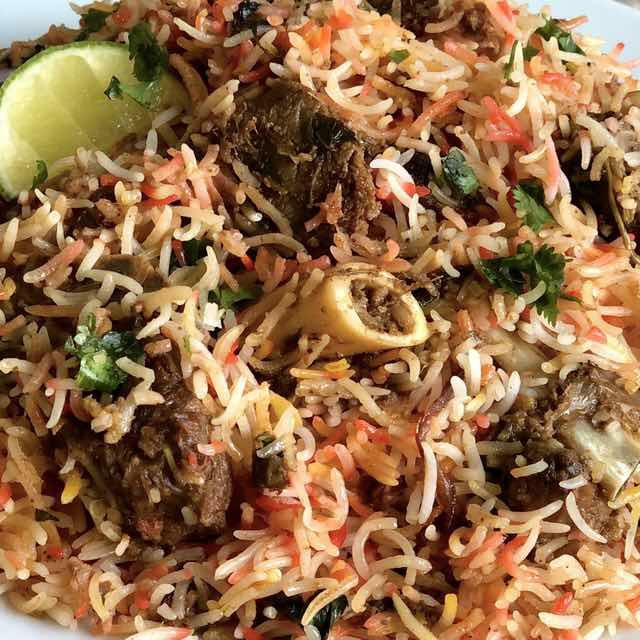Biryani: (2, 0, 640, 640)
